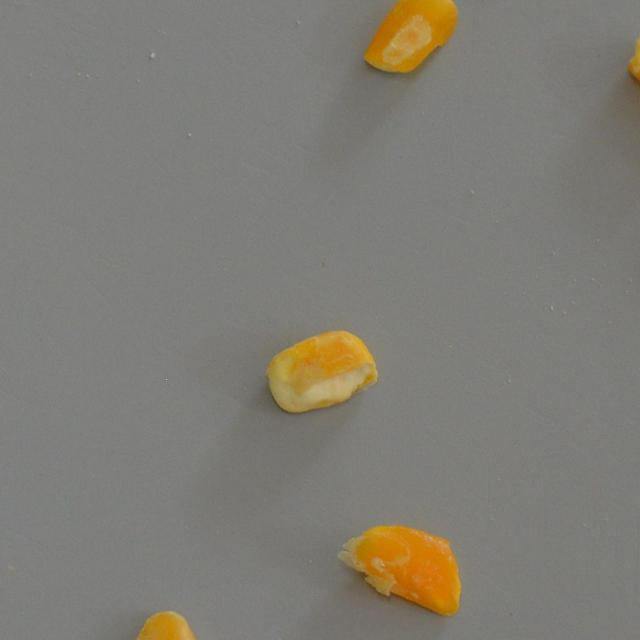pelicula: (336, 520, 462, 617), (264, 328, 378, 413), (362, 0, 458, 76), (126, 610, 210, 640), (624, 28, 640, 114)
